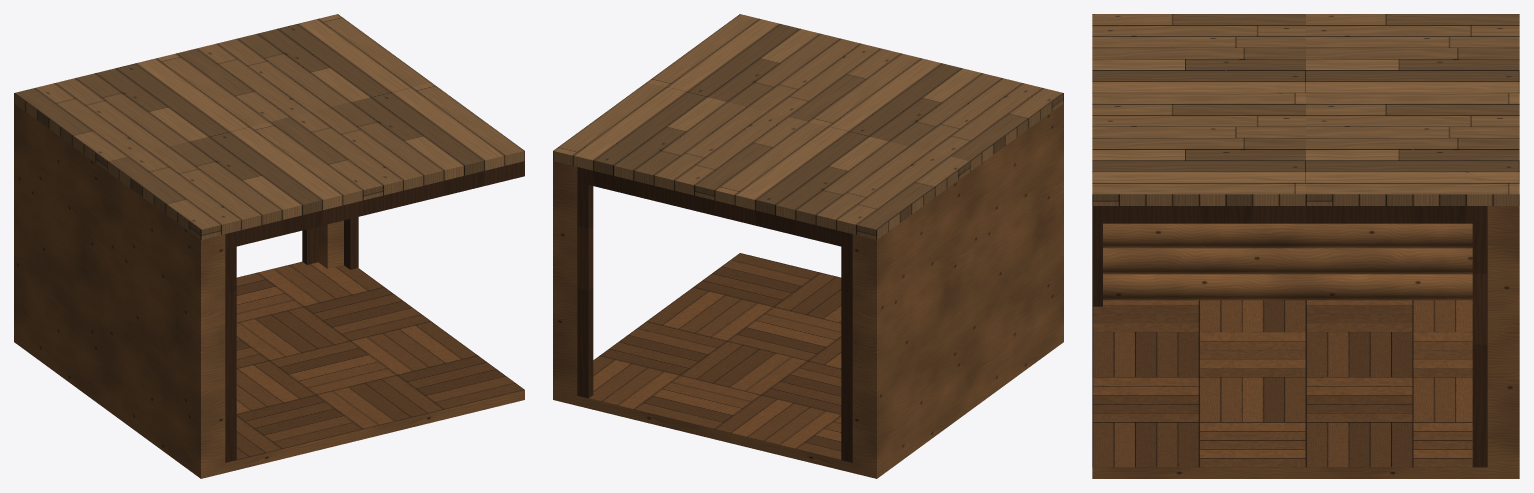
The model's file is Room_Cabin_OpeningCornerL.glb.
The picture shows the model from 3 angles, left to right: view 1: azimuth 30°, elevation 25°; view 2: azimuth 150°, elevation 25°; view 3: azimuth 270°, elevation 25°; orthographic projection. The views are drawn at different scales.
Parts seen in each view (by area): view 1: Room_Cabin_OpeningCornerL, Room_Cabin_OpeningCornerL_Ceiling; view 2: Room_Cabin_OpeningCornerL, Room_Cabin_OpeningCornerL_Ceiling; view 3: Room_Cabin_OpeningCornerL, Room_Cabin_OpeningCornerL_Ceiling.
Part boxes in pixels (box(x1,y1,x2,y2)): Room_Cabin_OpeningCornerL: box(14, 103, 524, 478); Room_Cabin_OpeningCornerL_Ceiling: box(14, 14, 524, 246); Room_Cabin_OpeningCornerL: box(553, 103, 1063, 478); Room_Cabin_OpeningCornerL_Ceiling: box(553, 14, 1063, 248); Room_Cabin_OpeningCornerL: box(1092, 206, 1519, 478); Room_Cabin_OpeningCornerL_Ceiling: box(1092, 14, 1519, 223).
Bounding box in the file's own units: 4 × 2.94 × 4.
7 materials, 5 textured.
